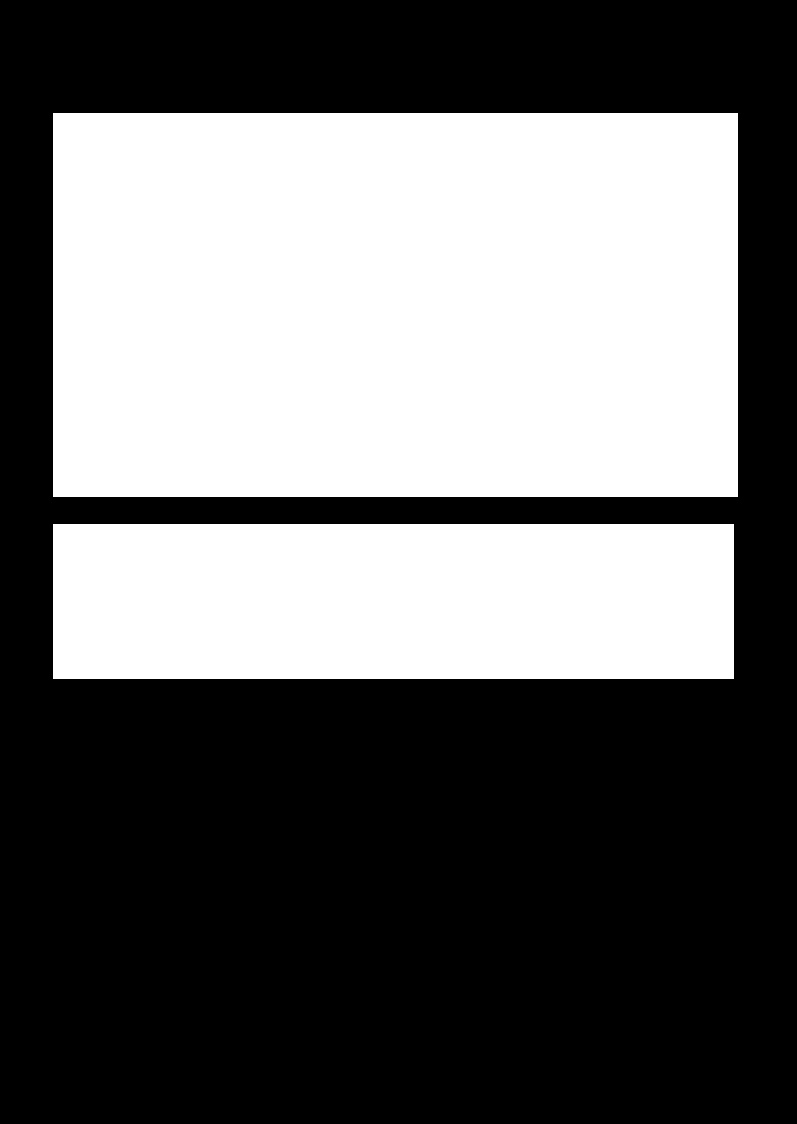table: (53, 113, 737, 496), (53, 524, 733, 678)
